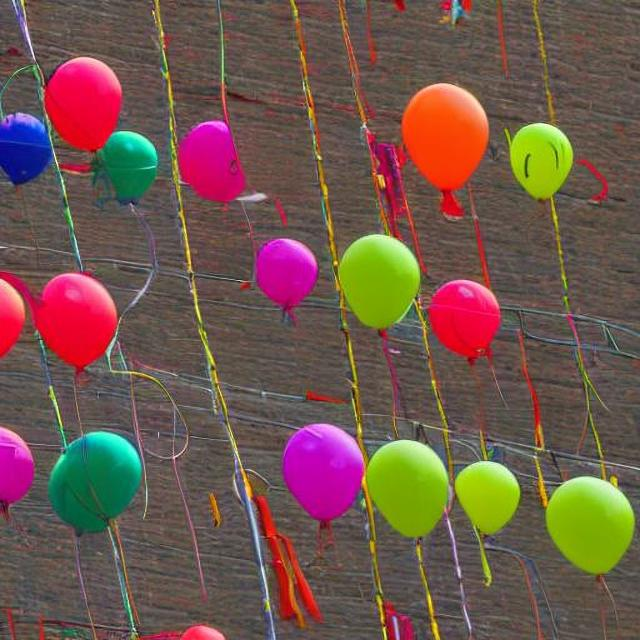balloon: (10, 58, 161, 213), (364, 434, 520, 556), (1, 268, 120, 371), (394, 79, 489, 199), (40, 429, 145, 533), (539, 471, 635, 579), (332, 229, 421, 333), (367, 438, 453, 543), (275, 431, 359, 526), (182, 113, 262, 203), (423, 279, 502, 363), (249, 234, 320, 318), (502, 121, 574, 203), (450, 457, 522, 539)
